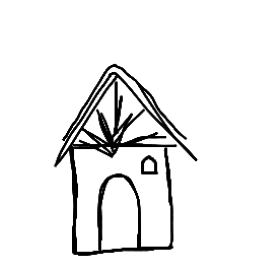bottom_placed_house: (1, 1, 260, 260)
door: (92, 168, 141, 255)
open_window: (139, 151, 160, 179)
roof: (44, 53, 211, 167)
wall: (63, 137, 181, 255)
